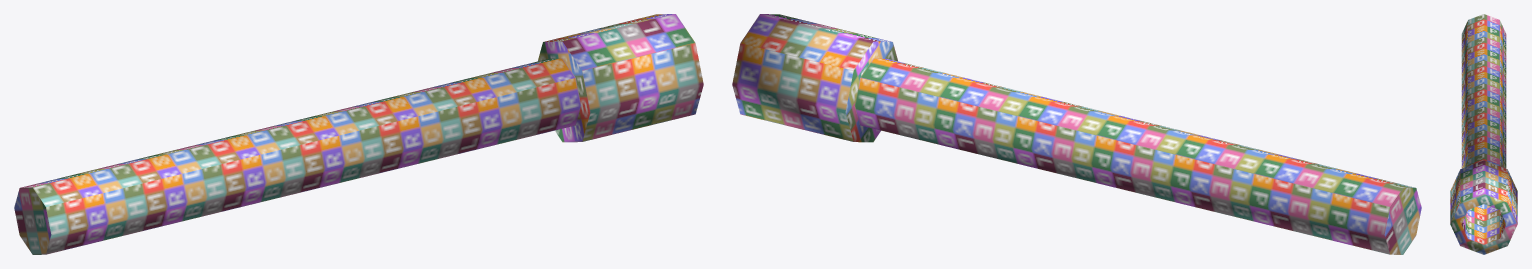
The model's file is cannon.obj.
The picture shows the model from 3 angles, left to right: view 1: azimuth 30°, elevation 25°; view 2: azimuth 150°, elevation 25°; view 3: azimuth 270°, elevation 25°; orthographic projection. The views are drawn at different scales.
Visible parts, largest first — view 1: cylinder4; view 2: cylinder4; view 3: cylinder4.
Boxes of the visible parts, left/top/right/bottom form: cylinder4: left=14, top=14, right=703, bottom=254; cylinder4: left=732, top=14, right=1421, bottom=254; cylinder4: left=1450, top=14, right=1517, bottom=254.
Bounding box in the file's own units: 0.75 × 0.1123 × 0.1123.
1 material, 1 textured.
